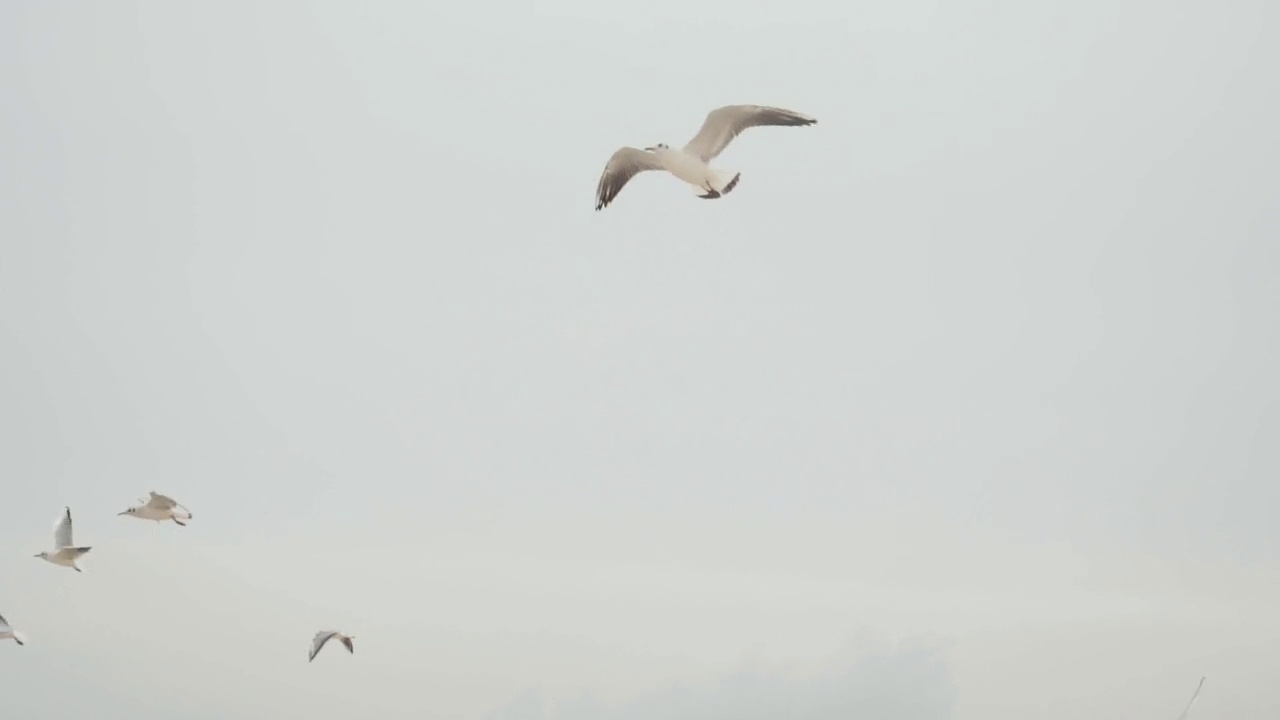bird: (596, 104, 816, 213), (30, 506, 90, 573), (114, 494, 193, 529), (304, 628, 355, 658)
